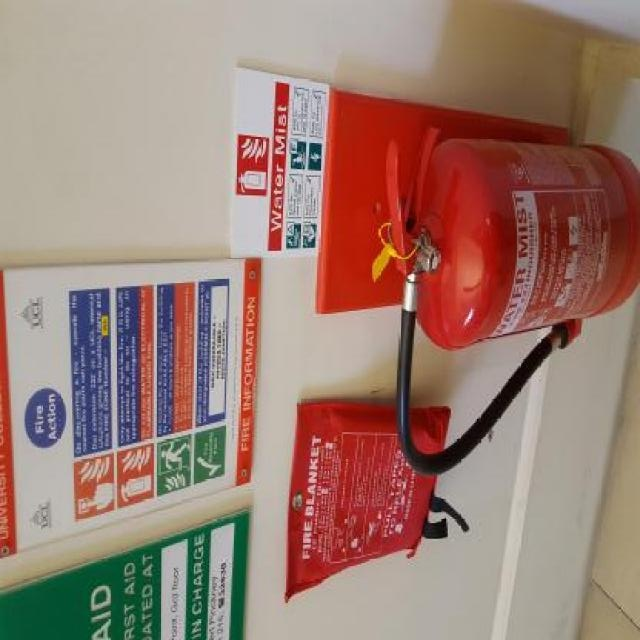fire extinguisher: (370, 118, 638, 474)
